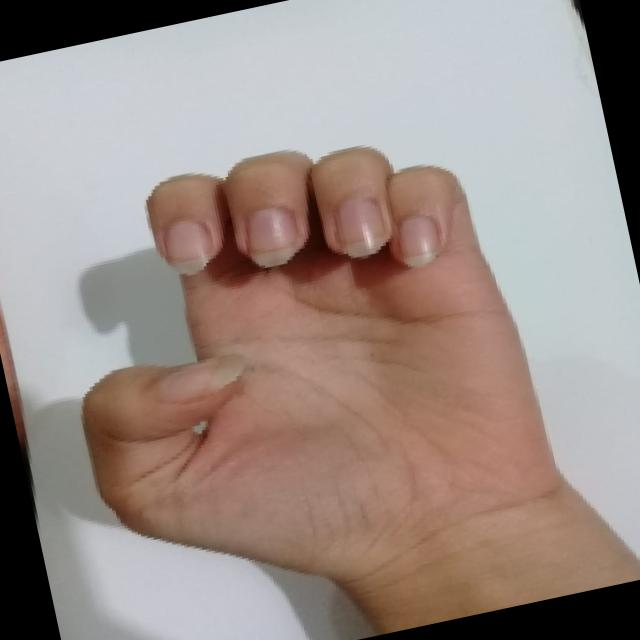Nail: (162, 354, 244, 402), (335, 195, 388, 258), (247, 206, 297, 267), (164, 220, 214, 274), (399, 215, 439, 266)
